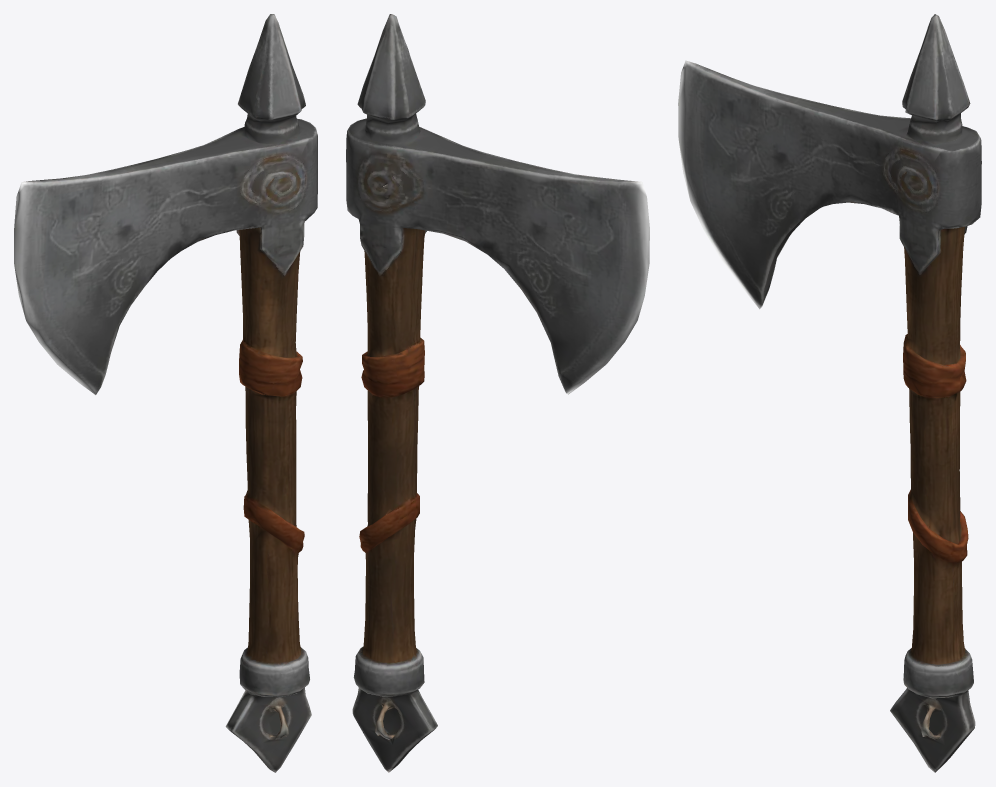
The model's file is axe_3d.glb.
3 views of the same model, side by side, from view 1: azimuth 30°, elevation 25°; view 2: azimuth 150°, elevation 25°; view 3: azimuth 330°, elevation 25° (orthographic).
Visible parts, largest first — view 1: world; view 2: world; view 3: world.
Boxes of the visible parts, bbox=[...] form: world: bbox=[14, 14, 317, 772]; world: bbox=[346, 14, 649, 772]; world: bbox=[678, 14, 981, 772].
Bounding box in the file's own units: 0.4128 × 0.9987 × 0.0824.
Materials: 1 (1 with a texture image).
